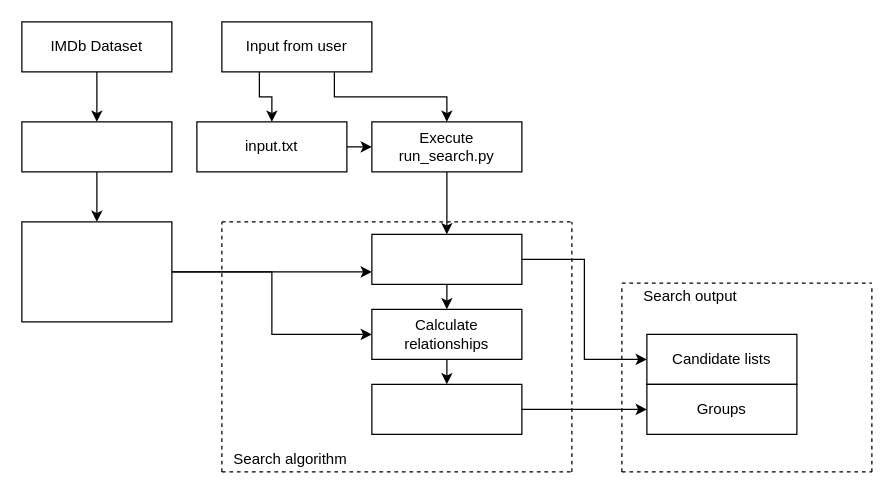
This 895x495 diagram has some shape labels left out. Here are the shapes that lost their labels. From the top down, the centre of each, then its label:
At (96,146): "Pre-processing".
At (96,271): "name.tsv genre_score.tsv principals.tsv ...".
At (446,258): "Find best actors".
At (446,408): "Find best groups".
